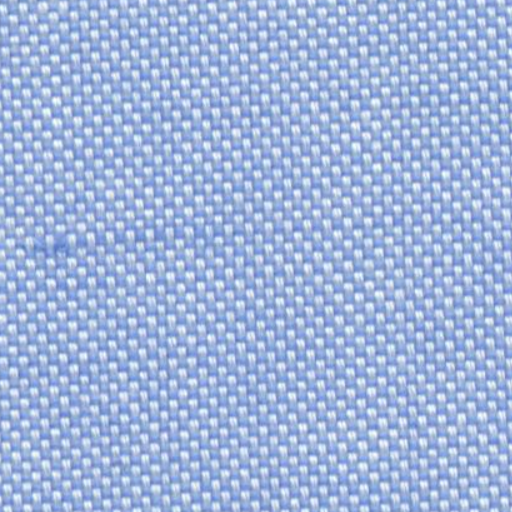DaiSha: (12, 218, 208, 259)
